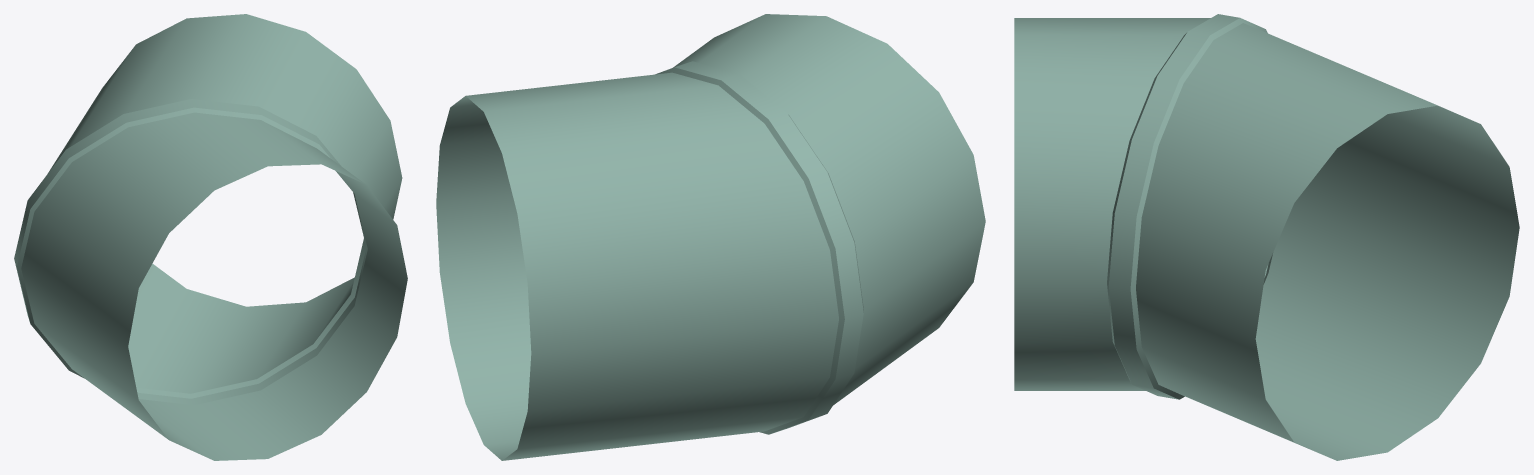
Rendered from PipeLarge_Stepped_BentDeg45_01.fbx.
3 views of the same model, side by side, from view 1: azimuth 30°, elevation 25°; view 2: azimuth 150°, elevation 25°; view 3: azimuth 270°, elevation 25° (orthographic). The views are drawn at different scales.
Visible parts, largest first — view 1: PipeLarge_Stepped_BentDeg45_01.001; view 2: PipeLarge_Stepped_BentDeg45_01.001; view 3: PipeLarge_Stepped_BentDeg45_01.001.
Part boxes in pixels (box(x1,y1,x2,y2)): PipeLarge_Stepped_BentDeg45_01.001: box(14, 14, 407, 460); PipeLarge_Stepped_BentDeg45_01.001: box(436, 14, 985, 460); PipeLarge_Stepped_BentDeg45_01.001: box(1014, 14, 1519, 460).
Bounding box in the file's own units: 0.2722 × 0.2049 × 0.2707.
